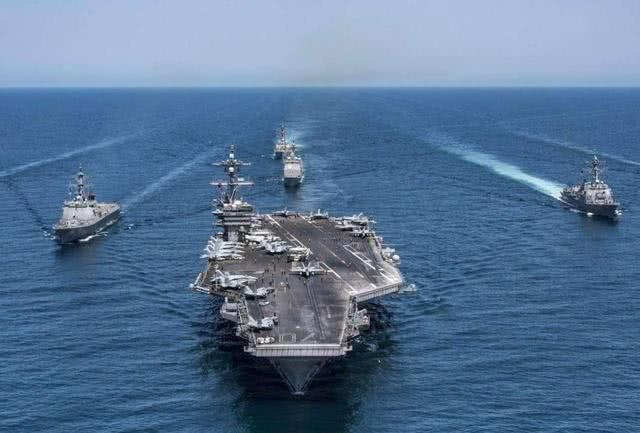warship: (187, 145, 411, 399), (50, 158, 121, 245), (566, 155, 626, 228), (278, 141, 306, 191)
